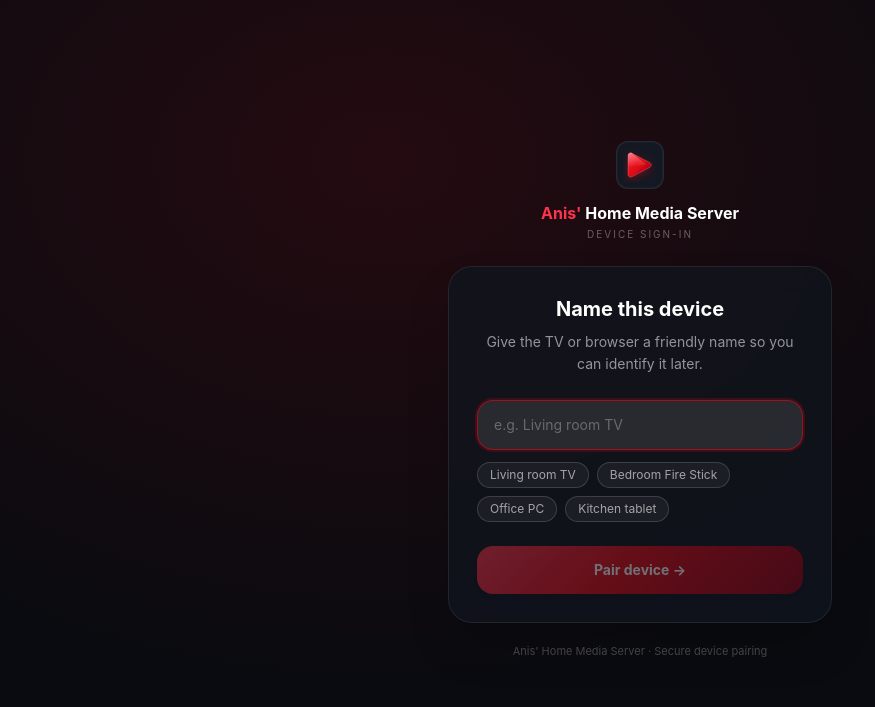
Test: RemoteLoginPage › surfaces a failed confirmation
expect the heading "Name this device" is shown: met, box [556,296,724,320]
Type "Kitchen TV" into the field with placeholder "e.g. Living room TV".
click(640, 425); type("Kitchen TV")  # box [477,400,803,450]
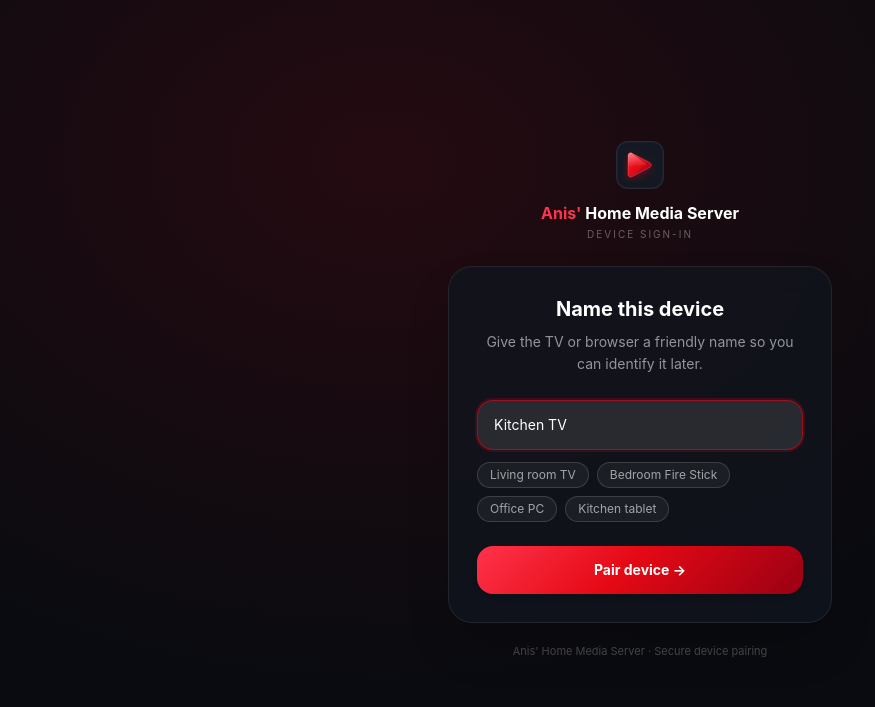
Click the button "Pair device →".
click(640, 570)  # box [477,546,803,594]
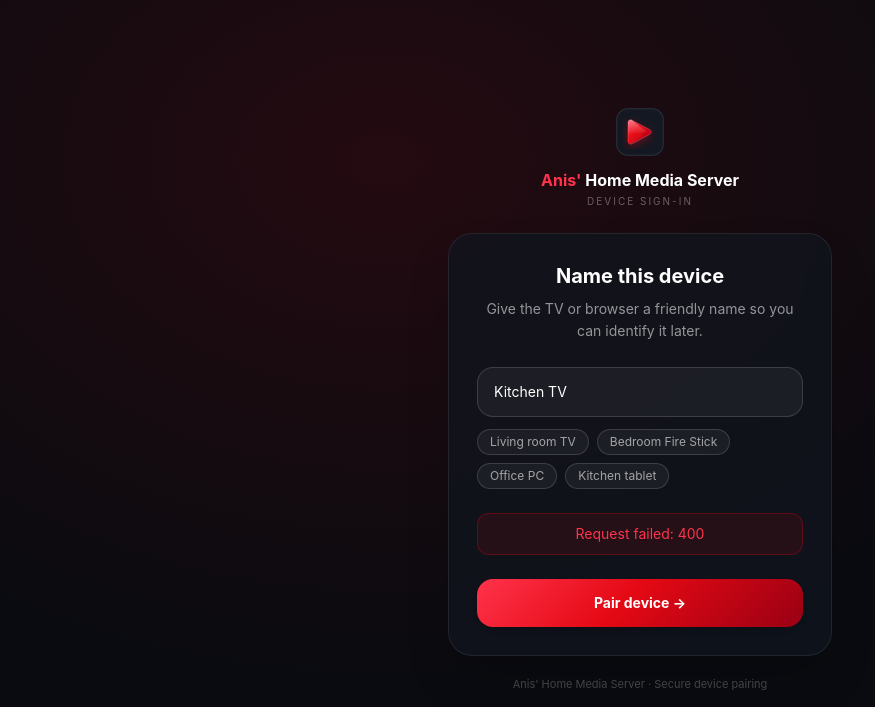
expect the text "Request failed: 400" is shown: met, box [477,513,803,555]
